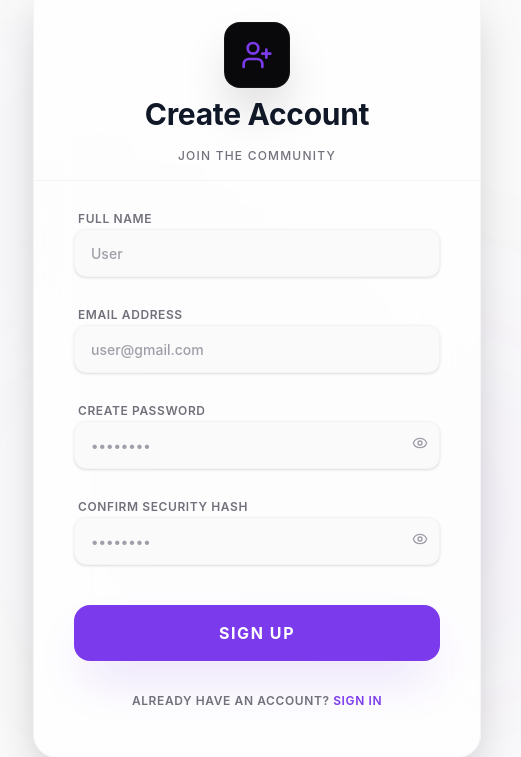
Test: Register Component › shows error on invalid email and short password
In the field with placeholder "User": (257, 253) [74,229,440,277], type "Test User"
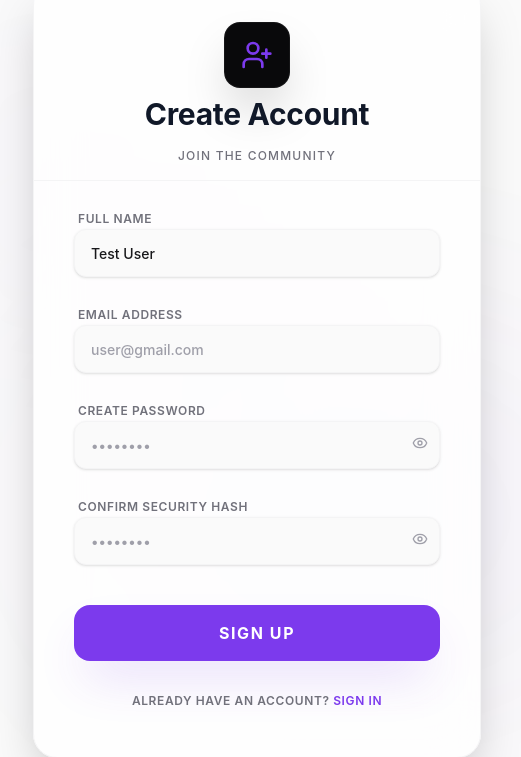
In the field with placeholder "user@gmail.com": (257, 349) [74,325,440,373], type "invalid-email"
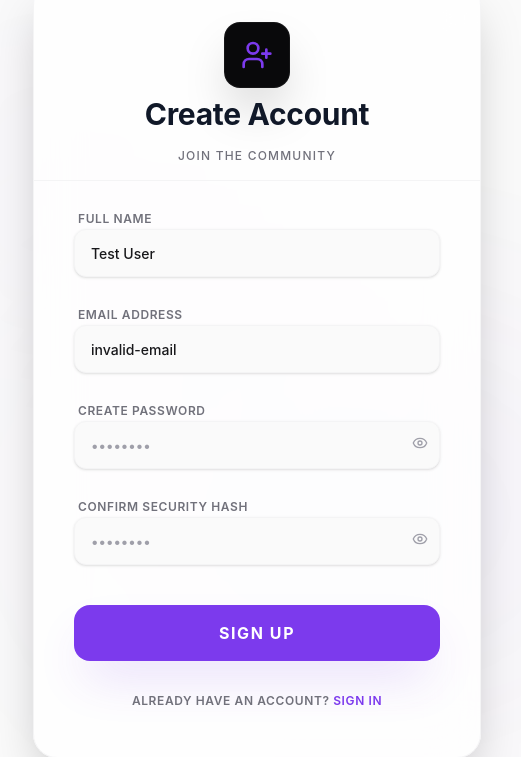
In the password field with placeholder "••••••••" below "Create Password": (257, 445) [74,421,440,469], type "123"
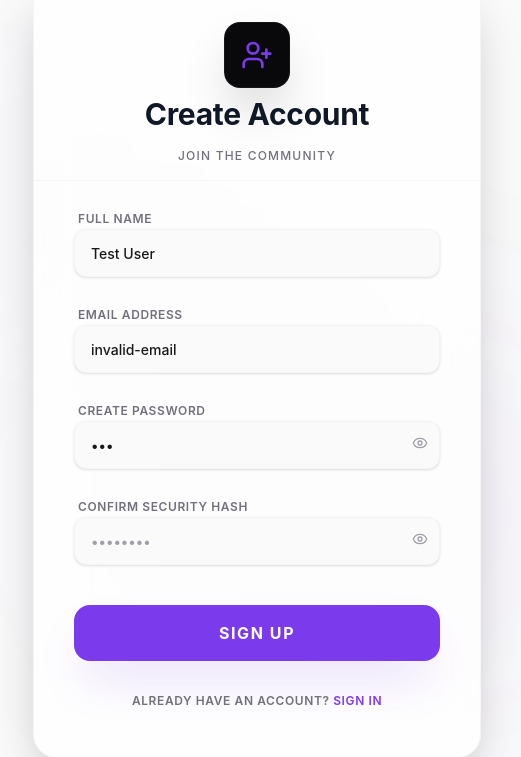
In the password field with placeholder "••••••••": (257, 541) [74,517,440,565], type "123"
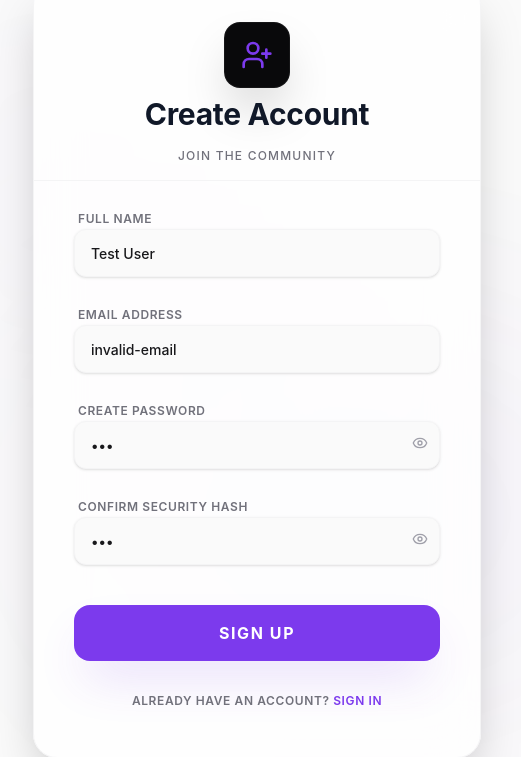
Submit the form "Sign Up", box [74,205,440,709]
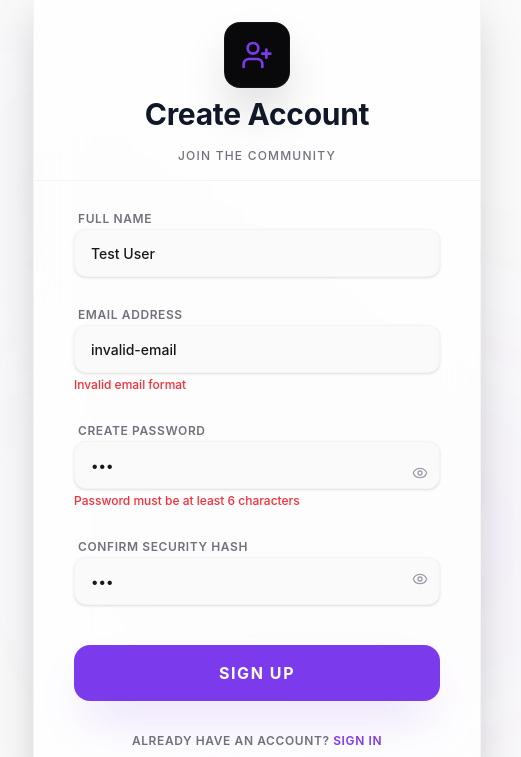
Check: the text "Invalid email format" is shown, box [74,377,186,392]
Check: the text "Password must be at least 6 characters" is shown, box [74,493,300,508]
